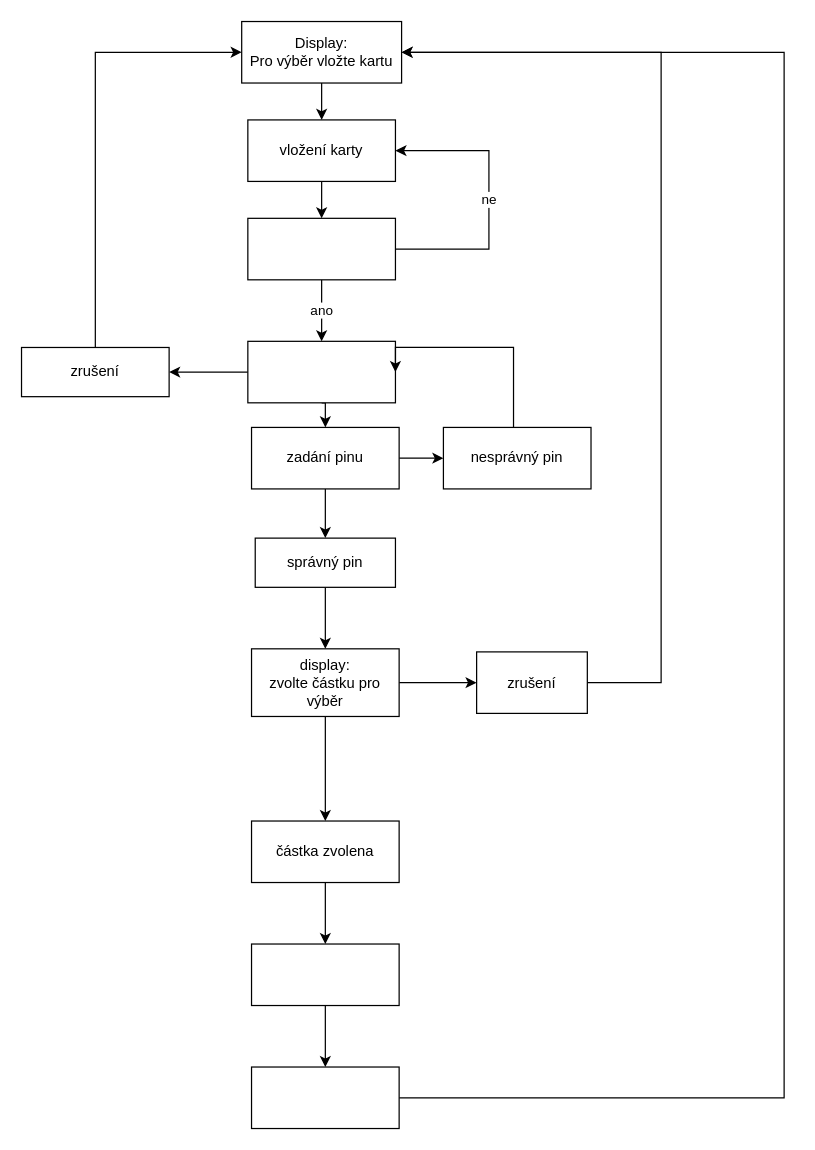
This 815x1150 diagram has some shape labels left out. Here are the shapes that lost their labels. From the top down, the centre of each, then its label:
At (321,248): "je karta správná/platná".
At (321,371): "display: zadejte pin".
At (324,974): "bankomat vydá peníze".
At (324,1097): "bankomat vrátí zpět kartu".
